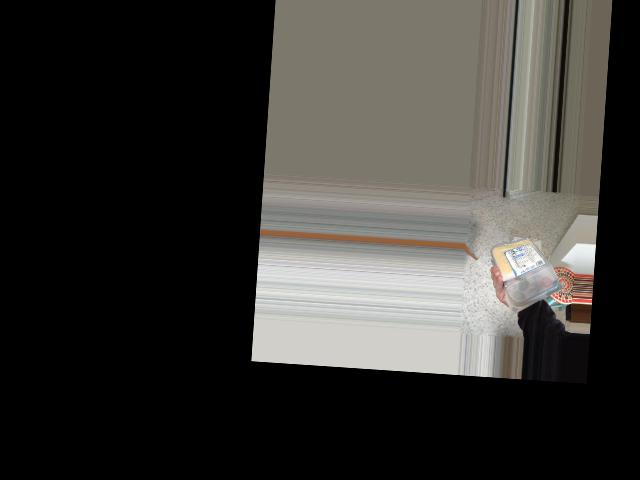cheese: (496, 231, 566, 305)
